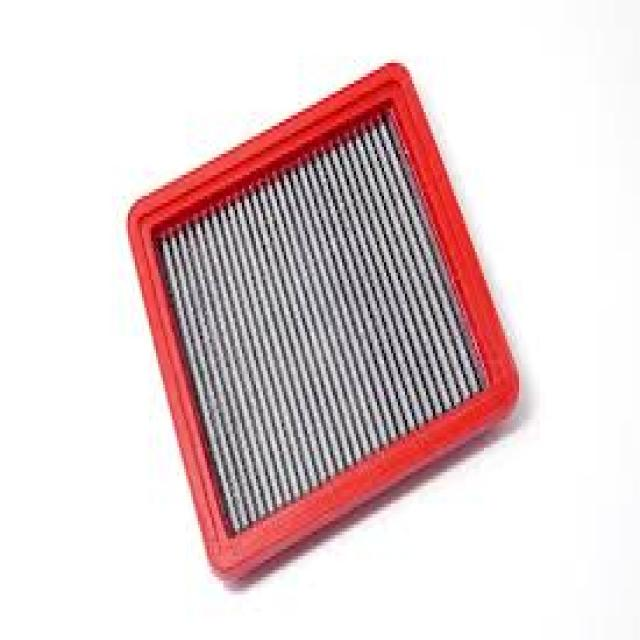air_filter: (128, 50, 510, 587)
